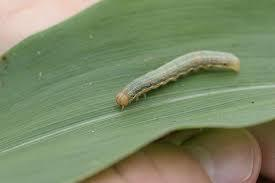fallarmy_worm: (107, 49, 247, 106)
